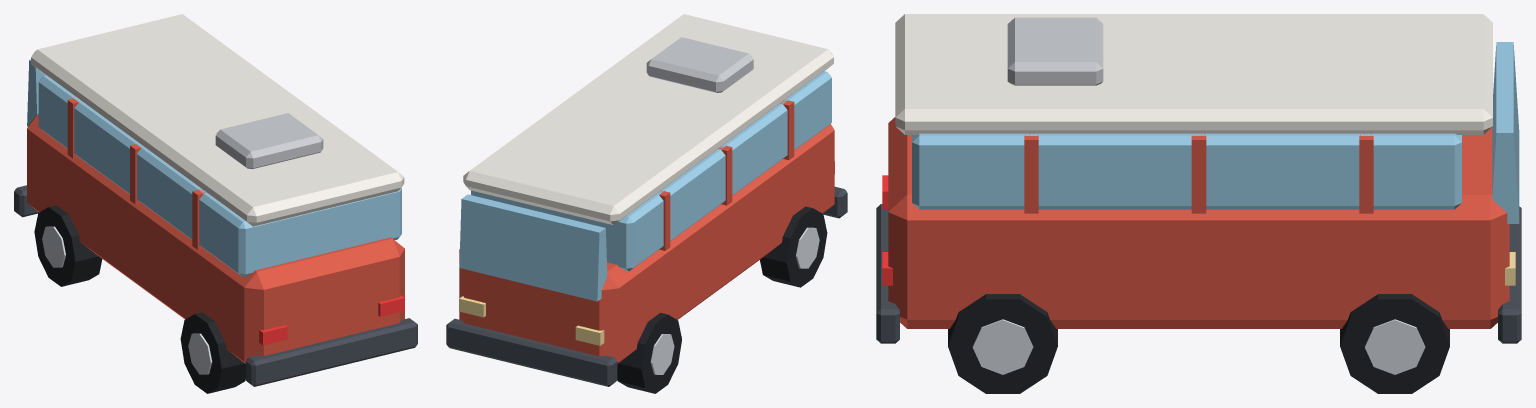
The model's file is minibus.glb.
3 renders of one model, left to right at view 1: azimuth 30°, elevation 25°; view 2: azimuth 150°, elevation 25°; view 3: azimuth 270°, elevation 25°, orthographic. The views are drawn at different scales.
Visible parts, largest first — view 1: Body, Wheel_0L, Wheel_1L; view 2: Body, Wheel_1L, Wheel_0L; view 3: Body, Wheel_0R, Wheel_1R.
Boxes of the visible parts, box(x1,y1,x2,y2) form: Body: box(14, 14, 417, 386); Wheel_0L: box(34, 205, 102, 286); Wheel_1L: box(180, 312, 245, 393); Body: box(446, 14, 847, 386); Wheel_1L: box(760, 206, 827, 287); Wheel_0L: box(617, 312, 681, 393); Body: box(876, 14, 1521, 343); Wheel_0R: box(1340, 294, 1449, 393); Wheel_1R: box(948, 294, 1057, 393).
Bounding box in the file's own units: 1.16 × 1.37 × 2.7.
1 material, 1 textured.
